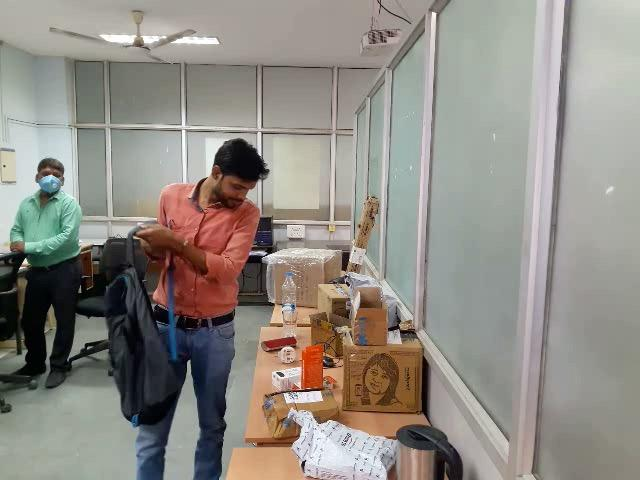Normal: (3, 114, 278, 480)
